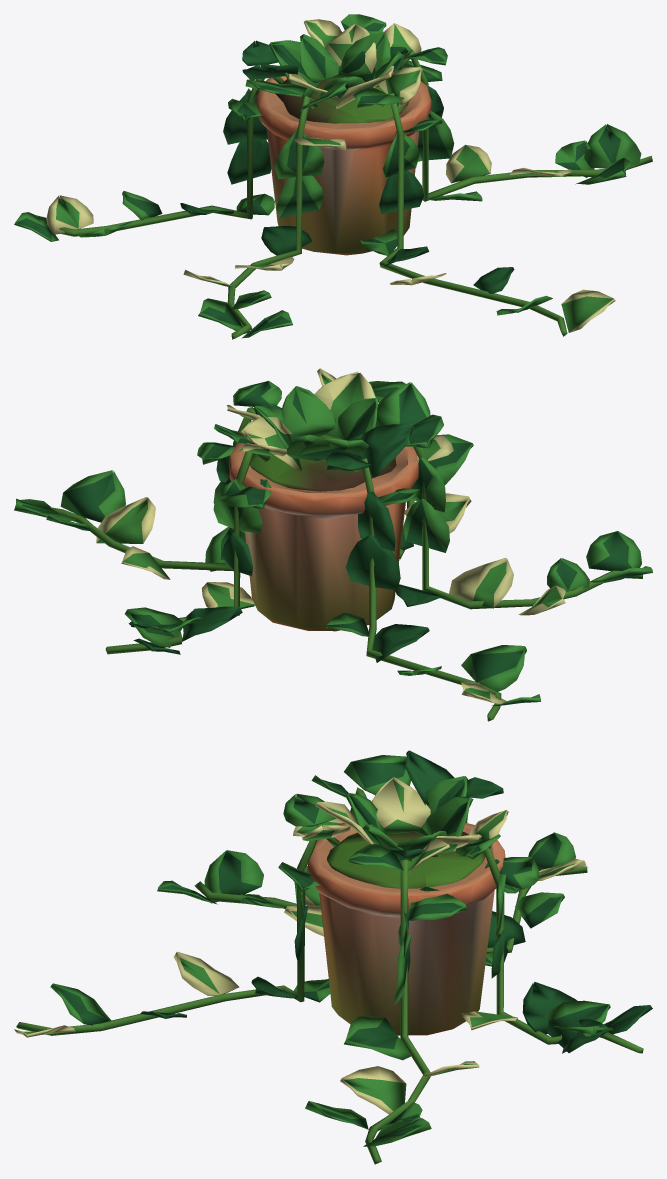
File: canopy_pothos_pot_lod1.glb
3 renders of one model, top to bottom at view 1: azimuth 30°, elevation 25°; view 2: azimuth 150°, elevation 25°; view 3: azimuth 270°, elevation 25°, orthographic. The views are drawn at different scales.
Visible parts, largest first — view 1: canopy_pothos_pot.001; view 2: canopy_pothos_pot.001; view 3: canopy_pothos_pot.001.
Part boxes in pixels (x1,y1,x2,y2): canopy_pothos_pot.001: [14, 14, 652, 339]; canopy_pothos_pot.001: [14, 368, 652, 721]; canopy_pothos_pot.001: [14, 750, 652, 1164].
Size of the model in its own units: 14.93 by 4.7 by 12.94.
